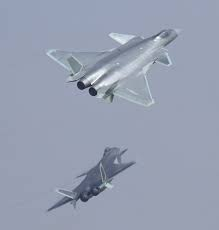fighter: (44, 23, 195, 108), (45, 143, 142, 214)
